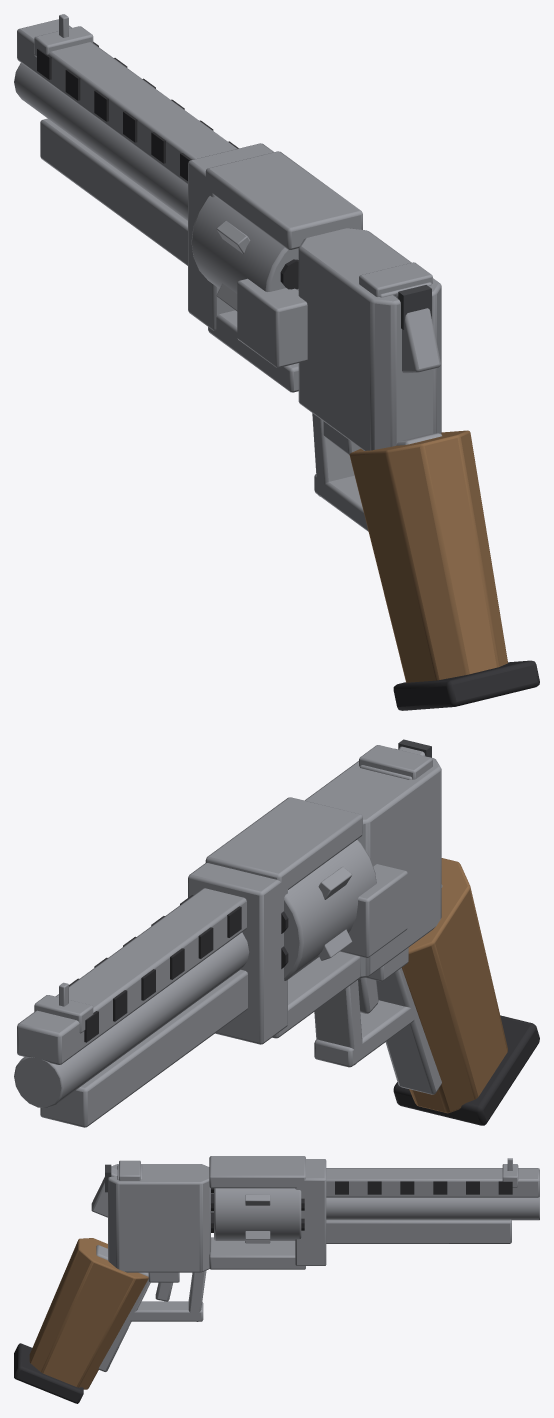
Rendered from revolver_44.glb.
3 renders of one model, top to bottom at view 1: azimuth 30°, elevation 25°; view 2: azimuth 150°, elevation 25°; view 3: azimuth 270°, elevation 25°, orthographic. The views are drawn at different scales.
Parts seen in each view (by area): view 1: revolver_44; view 2: revolver_44; view 3: revolver_44.
Boxes of the visible parts, bbox=[...] form: revolver_44: bbox=[14, 14, 539, 710]; revolver_44: bbox=[14, 739, 539, 1127]; revolver_44: bbox=[14, 1156, 539, 1403].
Size of the model in its own units: 0.0524 by 0.1652 by 0.3373.
